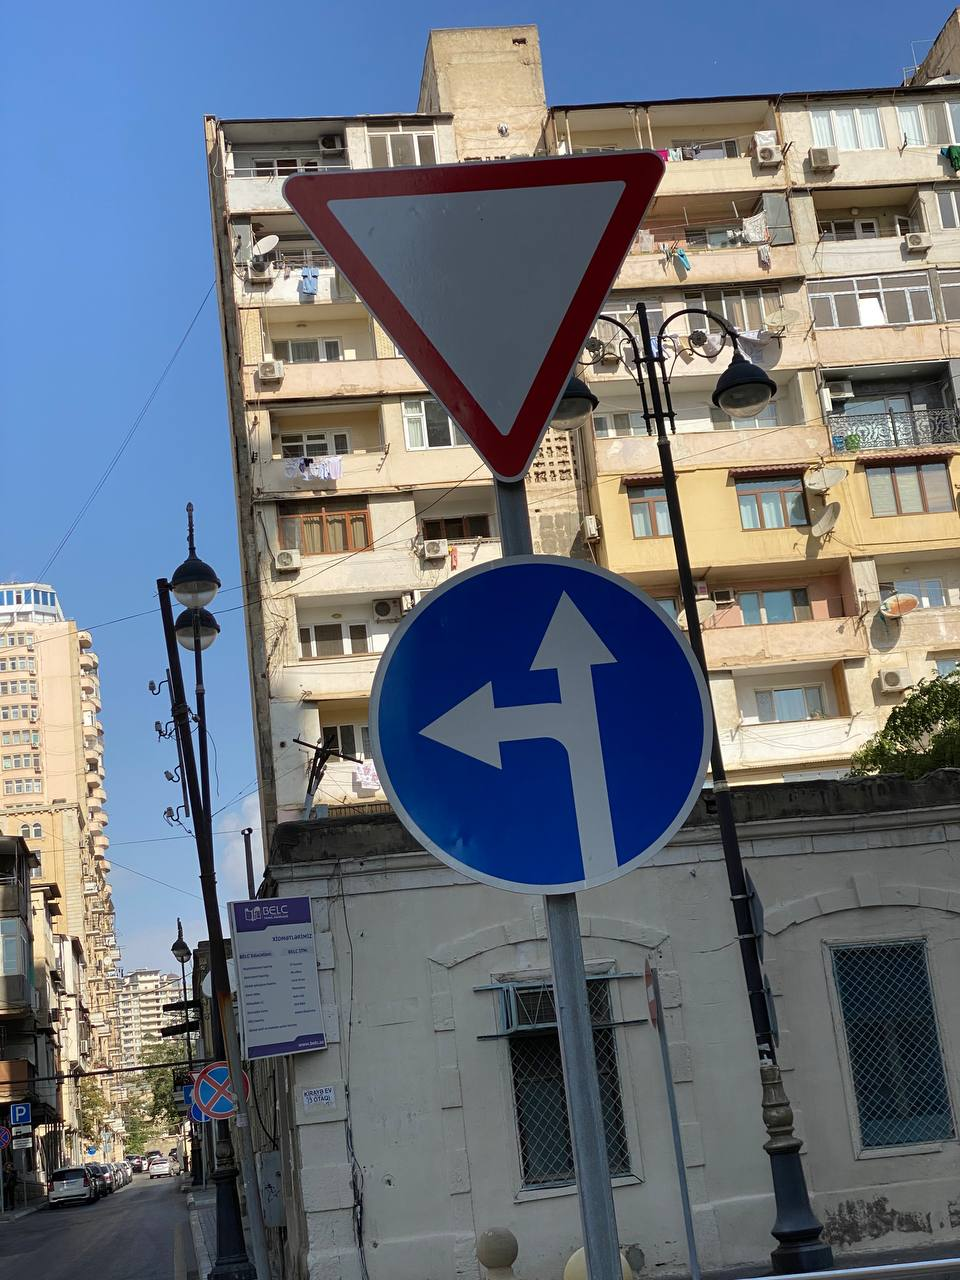Give Way: (279, 148, 669, 483)
Straight or Left: (369, 556, 717, 893)
